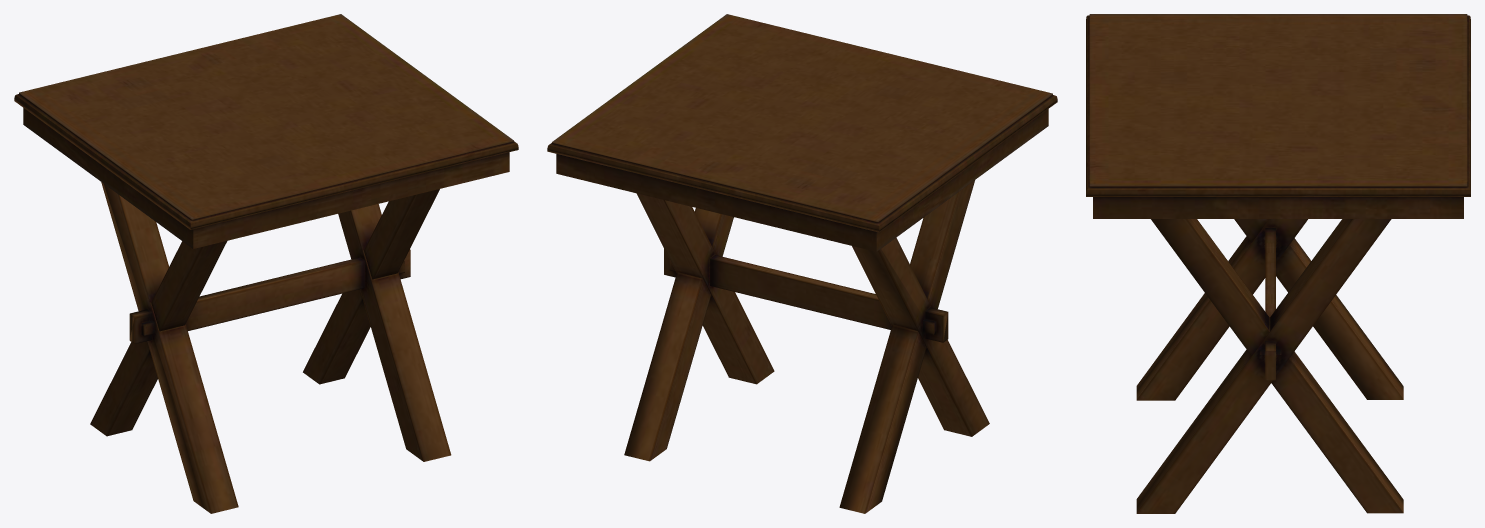
3 renders of one model, left to right at view 1: azimuth 30°, elevation 25°; view 2: azimuth 150°, elevation 25°; view 3: azimuth 270°, elevation 25°, orthographic. The views are drawn at different scales.
Parts seen in each view (by area): view 1: RootNode; view 2: RootNode; view 3: RootNode.
Boxes of the visible parts, x1,y1,x2,y2 form: RootNode: [14, 14, 518, 513]; RootNode: [547, 14, 1057, 513]; RootNode: [1086, 14, 1470, 513].
Size of the model in its own units: 0.5998 by 0.56 by 0.5576.
Materials: 1 (1 with a texture image).
